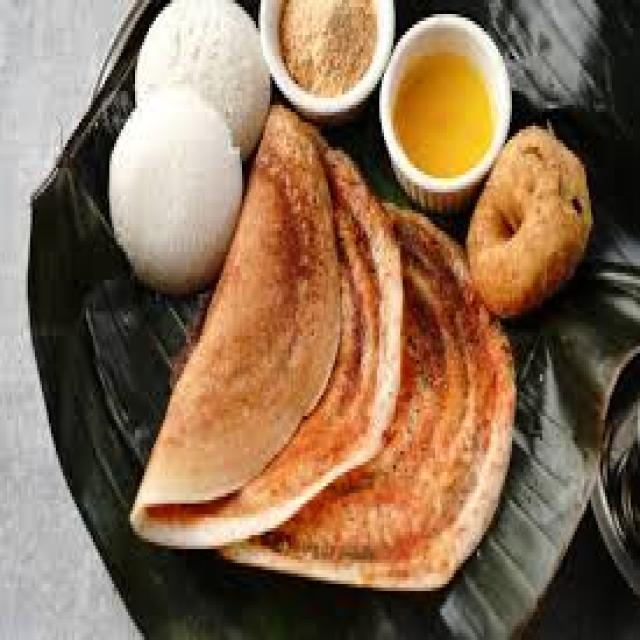DOSA: (130, 101, 342, 535)
IDLI: (135, 0, 270, 154)
